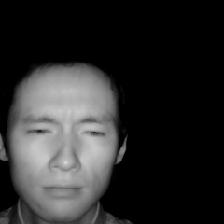sad: (7, 43, 125, 222)
